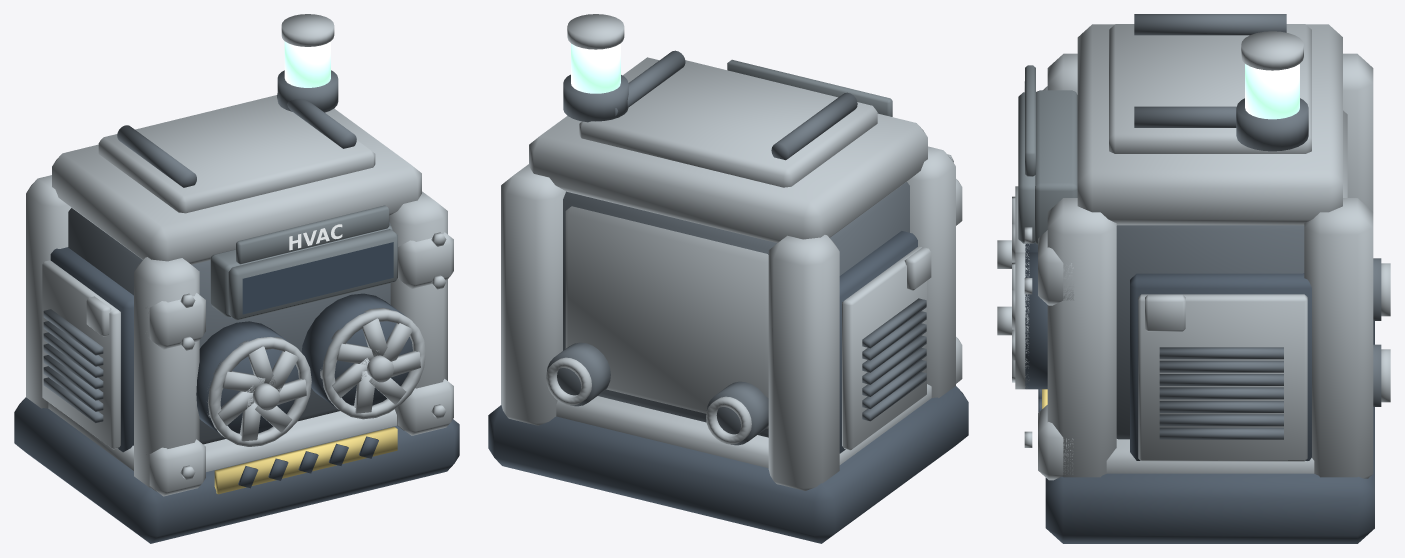
Rendered from hvac_enhanced.glb.
The picture shows the model from 3 angles, left to right: view 1: azimuth 30°, elevation 25°; view 2: azimuth 150°, elevation 25°; view 3: azimuth 270°, elevation 25°; orthographic projection. The views are drawn at different scales.
Visible parts, largest first — view 1: Frame_steel_legacy_4, Base_black_legacy_0, TopCap_steel_legacy_10, RoofPanel_steel_legacy_11, CornerGuard_steel_legacy_5, FanBlade_steel_legacy_15, Fan_black_legacy_13, Housing_dark_legacy_2, FanGuard_steel_legacy_14, ServiceDoor_steel_legacy_7, LiveViewSurface_glass, Skirt_steel_legacy_1 (+14 smaller); view 2: Frame_steel_legacy_4, Armor_steel_legacy_3, Base_black_legacy_0, TopCap_steel_legacy_10, RoofPanel_steel_legacy_11, Housing_dark_legacy_2, ServiceDoor_steel_legacy_7, Skirt_steel_legacy_1, SideVents_dark_legacy_8, RearPort_dark_legacy_26, LiftRail_dark_legacy_12, SidePanel_black_legacy_6 (+7 smaller); view 3: Frame_steel_legacy_4, TopCap_steel_legacy_10, Base_black_legacy_0, ServiceDoor_steel_legacy_7, RoofPanel_steel_legacy_11, Housing_dark_legacy_2, SideVents_dark_legacy_8, SidePanel_black_legacy_6, LiftRail_dark_legacy_12, ScreenMount_frame, CornerGuard_steel_legacy_5, Skirt_steel_legacy_1 (+12 smaller).
Boxes of the visible parts, x1=… form: Frame_steel_legacy_4: x1=26, y1=175, x2=447, y2=491; Base_black_legacy_0: x1=14, y1=397, x2=459, y2=543; TopCap_steel_legacy_10: x1=52, y1=108, x2=421, y2=264; RoofPanel_steel_legacy_11: x1=98, y1=95, x2=375, y2=213; CornerGuard_steel_legacy_5: x1=146, y1=232, x2=453, y2=496; FanBlade_steel_legacy_15: x1=218, y1=318, x2=420, y2=441; Fan_black_legacy_13: x1=196, y1=293, x2=412, y2=434; Housing_dark_legacy_2: x1=68, y1=208, x2=390, y2=444; FanGuard_steel_legacy_14: x1=207, y1=307, x2=425, y2=446; ServiceDoor_steel_legacy_7: x1=42, y1=260, x2=120, y2=449; LiveViewSurface_glass: x1=242, y1=242, x2=393, y2=314; Skirt_steel_legacy_1: x1=48, y1=402, x2=396, y2=471; Frame_steel_legacy_4: x1=501, y1=146, x2=955, y2=490; Armor_steel_legacy_3: x1=565, y1=206, x2=768, y2=428; Base_black_legacy_0: x1=488, y1=386, x2=968, y2=543; TopCap_steel_legacy_10: x1=529, y1=57, x2=927, y2=242; RoofPanel_steel_legacy_11: x1=579, y1=60, x2=877, y2=187; Housing_dark_legacy_2: x1=563, y1=182, x2=909, y2=437; ServiceDoor_steel_legacy_7: x1=842, y1=246, x2=926, y2=450; Skirt_steel_legacy_1: x1=556, y1=384, x2=931, y2=468; SideVents_dark_legacy_8: x1=862, y1=298, x2=926, y2=421; RearPort_dark_legacy_26: x1=547, y1=342, x2=768, y2=445; LiftRail_dark_legacy_12: x1=615, y1=50, x2=857, y2=160; SidePanel_black_legacy_6: x1=839, y1=231, x2=917, y2=453; Frame_steel_legacy_4: x1=1047, y1=53, x2=1373, y2=478; TopCap_steel_legacy_10: x1=1077, y1=24, x2=1342, y2=225; Base_black_legacy_0: x1=1045, y1=321, x2=1374, y2=543; ServiceDoor_steel_legacy_7: x1=1138, y1=294, x2=1307, y2=461; RoofPanel_steel_legacy_11: x1=1109, y1=24, x2=1311, y2=153; Housing_dark_legacy_2: x1=1116, y1=225, x2=1304, y2=439; SideVents_dark_legacy_8: x1=1159, y1=347, x2=1283, y2=439; SidePanel_black_legacy_6: x1=1130, y1=273, x2=1311, y2=460; LiftRail_dark_legacy_12: x1=1134, y1=14, x2=1286, y2=127; ScreenMount_frame: x1=1035, y1=90, x2=1077, y2=244; CornerGuard_steel_legacy_5: x1=1038, y1=86, x2=1073, y2=480; Skirt_steel_legacy_1: x1=1106, y1=439, x2=1314, y2=473.
Size of the model in its own units: 1.43 by 1.65 by 1.25.
